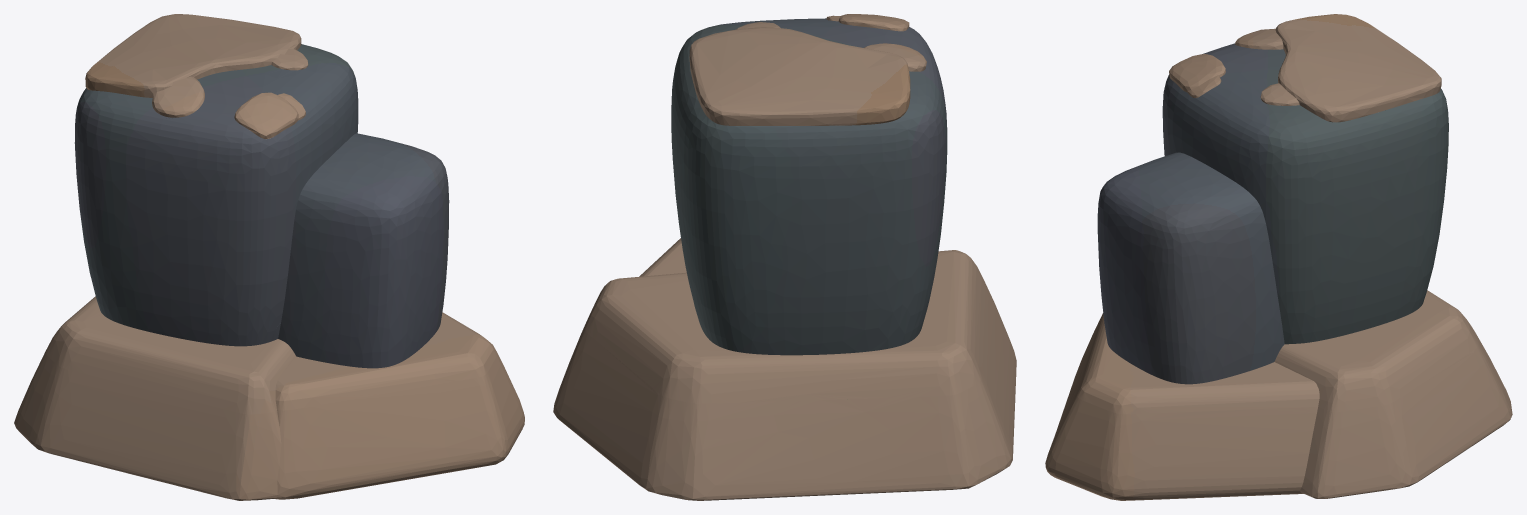
File: kuangshi.FBX
3 views of the same model, side by side, from view 1: azimuth 30°, elevation 25°; view 2: azimuth 150°, elevation 25°; view 3: azimuth 270°, elevation 25° (orthographic). The views are drawn at different scales.
Visible parts, largest first — view 1: kuangshi, dizuo; view 2: kuangshi, dizuo; view 3: kuangshi, dizuo.
Part boxes in pixels (left/top/right/bottom): kuangshi: left=45, top=14, right=497, bottom=414; dizuo: left=14, top=352, right=524, bottom=500; kuangshi: left=584, top=14, right=985, bottom=403; dizuo: left=553, top=283, right=1016, bottom=500; kuangshi: left=1077, top=14, right=1478, bottom=414; dizuo: left=1045, top=316, right=1512, bottom=500.
Bounding box in the file's own units: 229 × 196 × 239.
